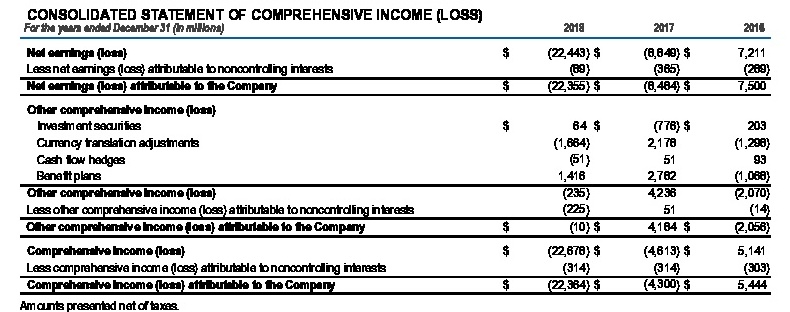table: (0, 0, 790, 312)
